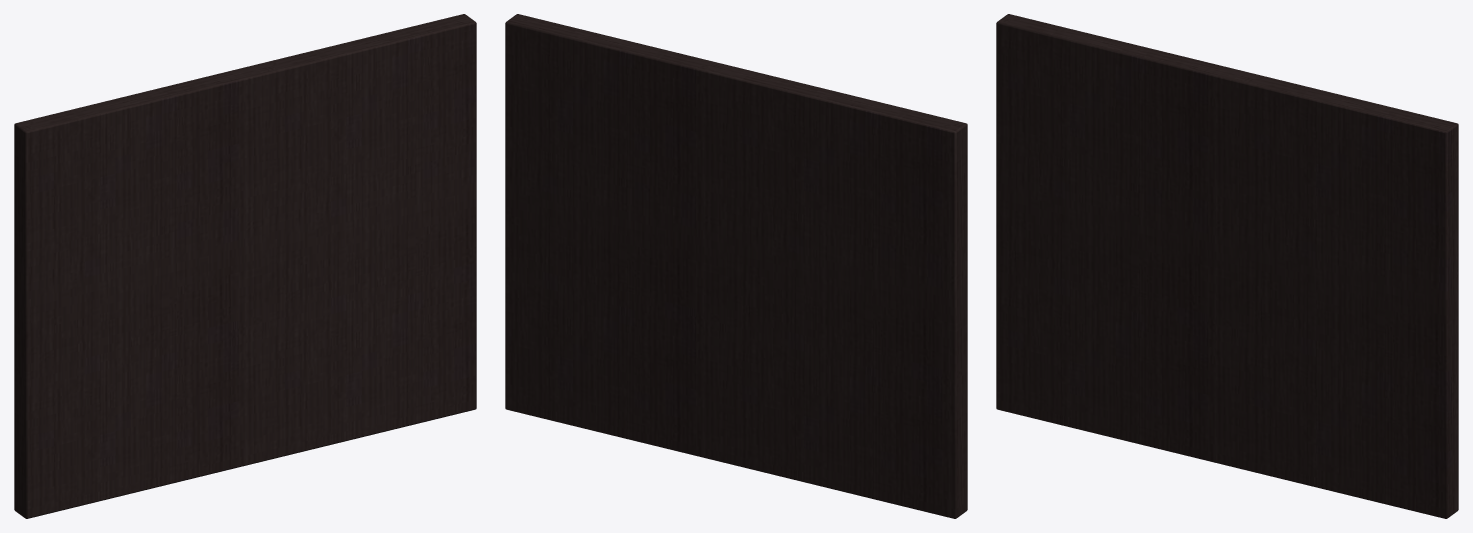
3 views of the same model, side by side, from view 1: azimuth 30°, elevation 25°; view 2: azimuth 150°, elevation 25°; view 3: azimuth 330°, elevation 25° (orthographic).
Parts seen in each view (by area): view 1: part7:cabinet door 2; view 2: part7:cabinet door 2; view 3: part7:cabinet door 2.
Part boxes in pixels (box(x1,y1,x2,y2)): part7:cabinet door 2: box(14, 14, 476, 518); part7:cabinet door 2: box(505, 14, 967, 518); part7:cabinet door 2: box(996, 14, 1458, 518).
Size of the model in its own units: 0.459 by 0.377 by 0.022.
1 material, 1 textured.
